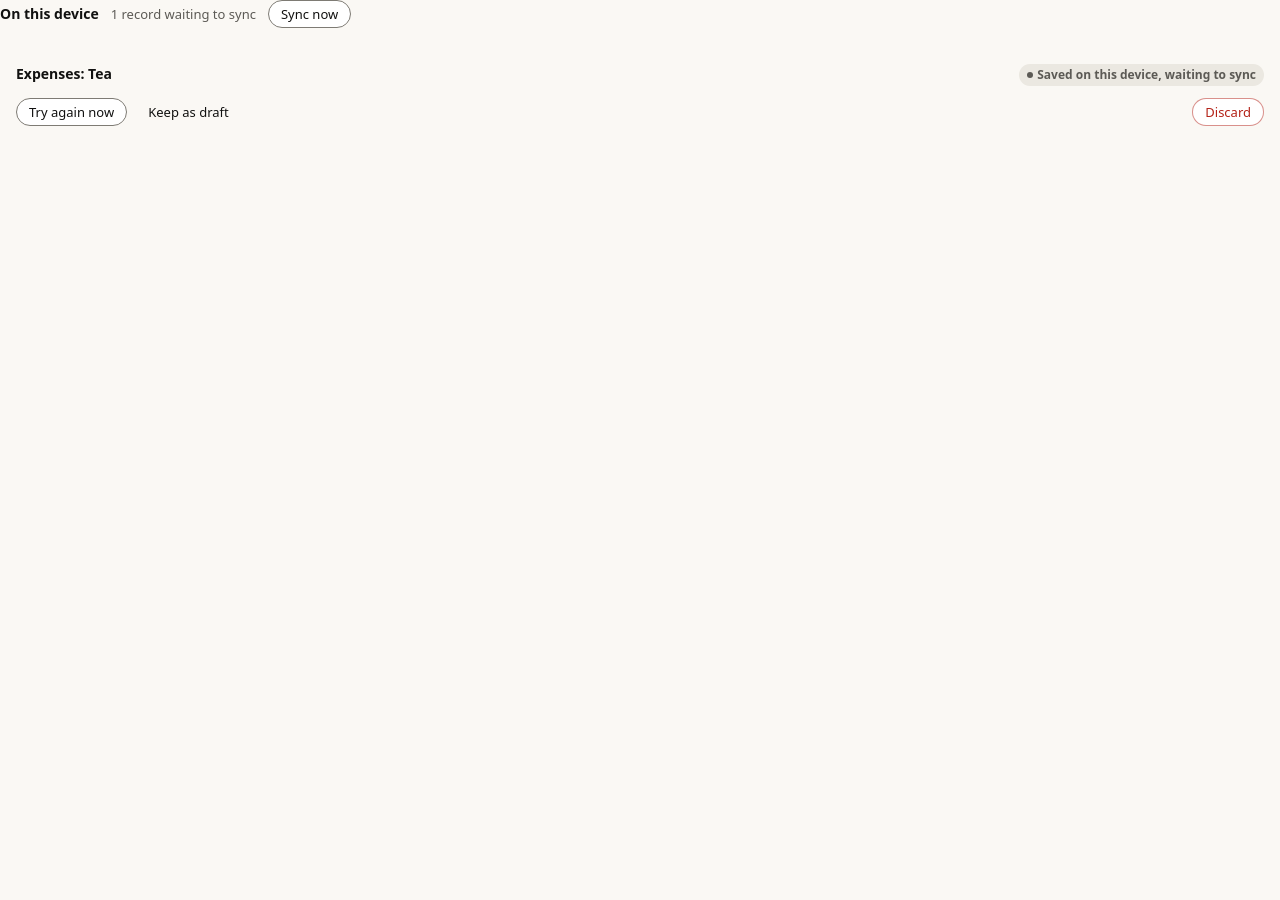
Scenario: a discard of a record that has gone out meanwhile is refused and says it is on its way
Expected: the text "Saved on this device, waiting to sync" is shown, [1019,64,1264,86]
Click the button "Discard": (1228, 112) [1192,98,1264,126]
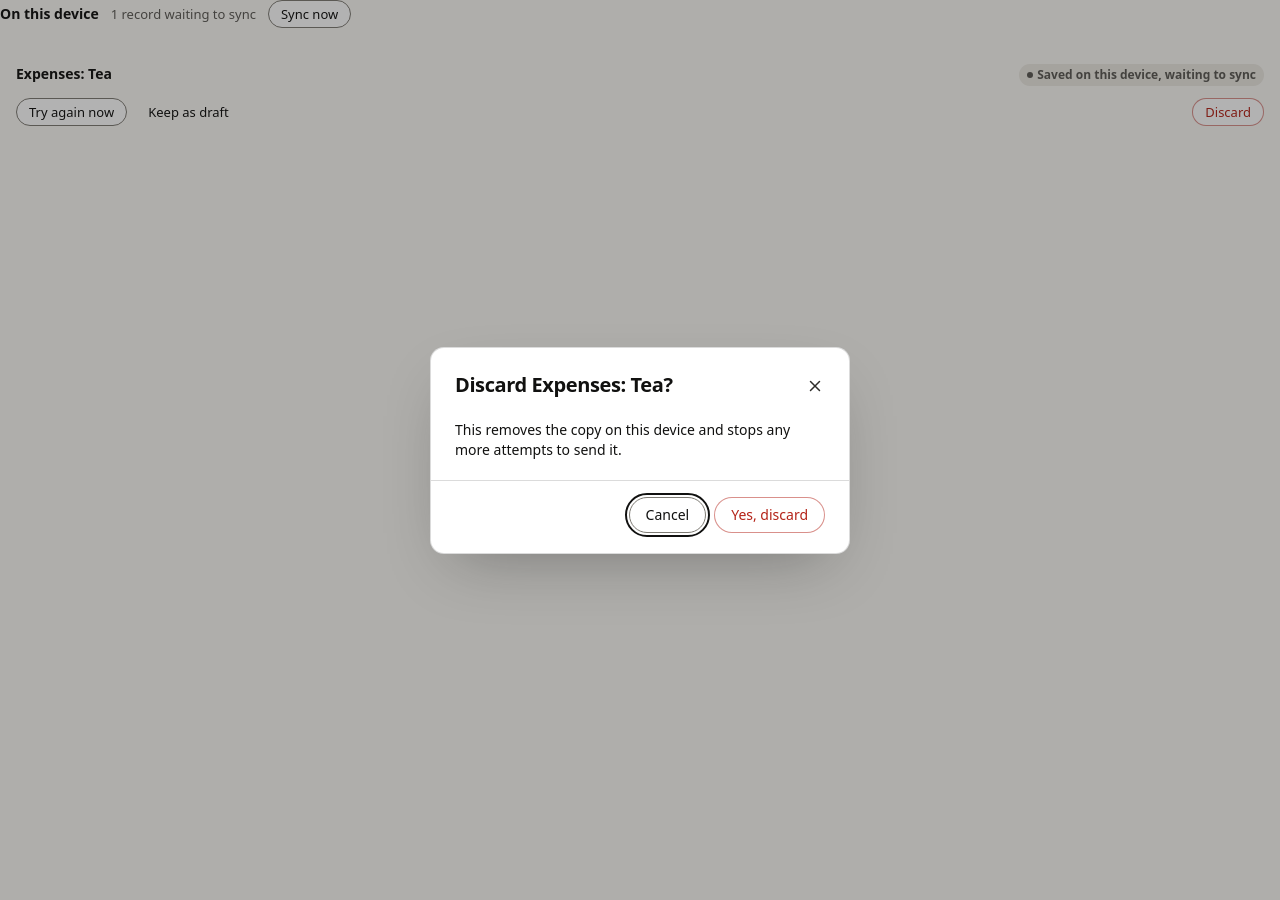
Click the button "Yes, discard": (770, 514) [714,496,825,532]
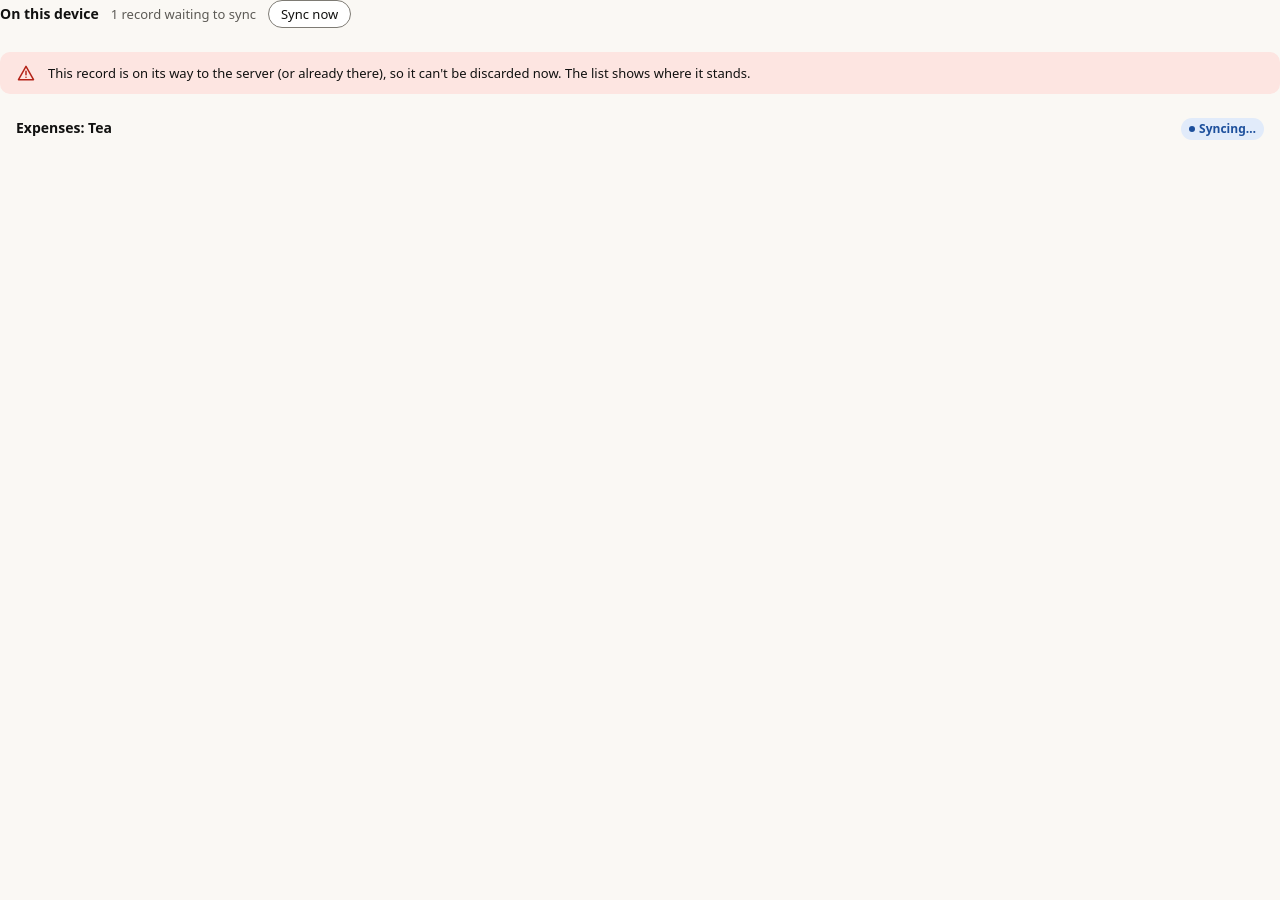
Expected: the button "Discard" is not shown
Now the text "on its way to the server" is shown, box [48,64,750,82]
Now the text "Syncing…" is shown, box [1181,118,1264,140]
